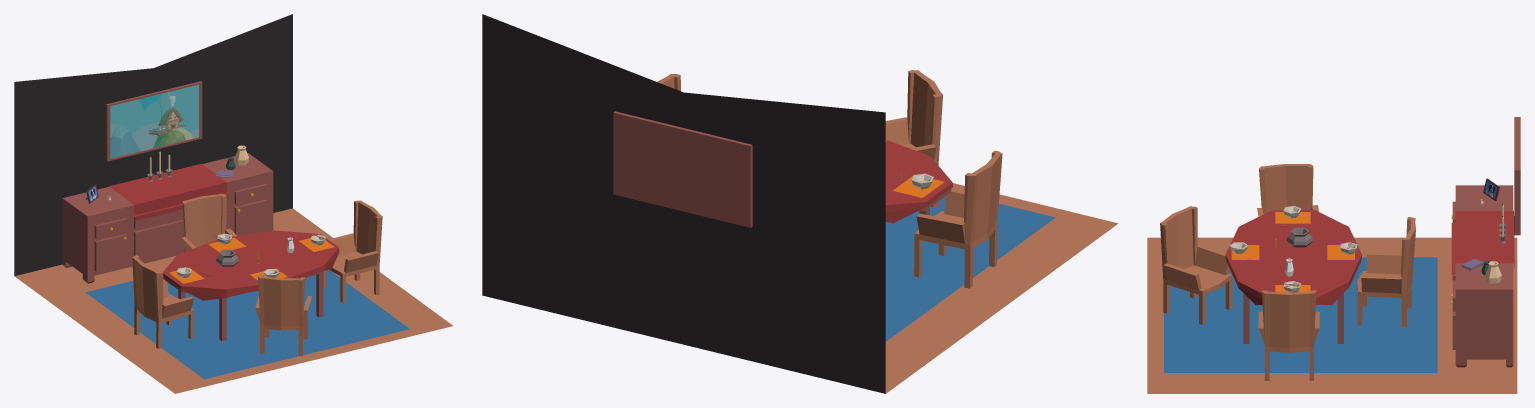
The picture shows the model from 3 angles, left to right: view 1: azimuth 30°, elevation 25°; view 2: azimuth 150°, elevation 25°; view 3: azimuth 270°, elevation 25°; orthographic projection. The views are drawn at different scales.
Visible parts, largest first — view 1: Plane_0, Plane.002_9, Plane.001_2, Cube_1, Cylinder.001_8, Plane.008_48, Plane.004_21, Cube.019_38, Cube.005_10, Cube.020_39, Cube.018_37, Cube.009_20; view 2: Plane_0, Cube.009_20, Plane.001_2, Plane.002_9, Cube.020_39, Cube.005_10, Cylinder.001_8; view 3: Plane.002_9, Plane.001_2, Cylinder.001_8, Cube_1, Cube.005_10, Cube.019_38, Plane.004_21, Cube.018_37, Cube.020_39, Cube.009_20, Cylinder.003_12, Plane.003_15 (+2 smaller).
Part boxes in pixels (x1,y1,x2,y2): Plane_0: (14,14,292,275); Plane.002_9: (86,270,409,379); Plane.001_2: (14,208,452,393); Cube_1: (62,153,273,283); Cylinder.001_8: (163,230,339,300); Plane.008_48: (110,84,199,158); Plane.004_21: (108,163,228,220); Cube.019_38: (323,200,382,302); Cube.005_10: (255,275,312,356); Cube.020_39: (132,255,193,348); Cube.018_37: (181,193,236,251); Cube.009_20: (106,81,202,161); Plane_0: (482,14,885,393); Cube.009_20: (613,111,752,227); Plane.001_2: (885,183,1118,393); Plane.002_9: (885,196,1055,341); Cube.020_39: (914,150,1002,288); Cube.005_10: (885,70,942,207); Cylinder.001_8: (885,140,952,223); Plane.002_9: (1164,257,1437,372); Plane.001_2: (1147,237,1517,393); Cylinder.001_8: (1225,210,1361,305); Cube_1: (1452,185,1513,367); Cube.005_10: (1160,206,1232,324); Cube.019_38: (1258,290,1319,380); Plane.004_21: (1451,211,1514,275); Cube.018_37: (1357,217,1415,327); Cube.020_39: (1257,164,1318,216); Cube.009_20: (1514,117,1520,235); Cylinder.003_12: (1286,227,1313,247); Plane.003_15: (1275,212,1310,223).
Bounding box in the file's own units: 6 × 4.02 × 6.05.
Materials: 4 (3 with a texture image).
